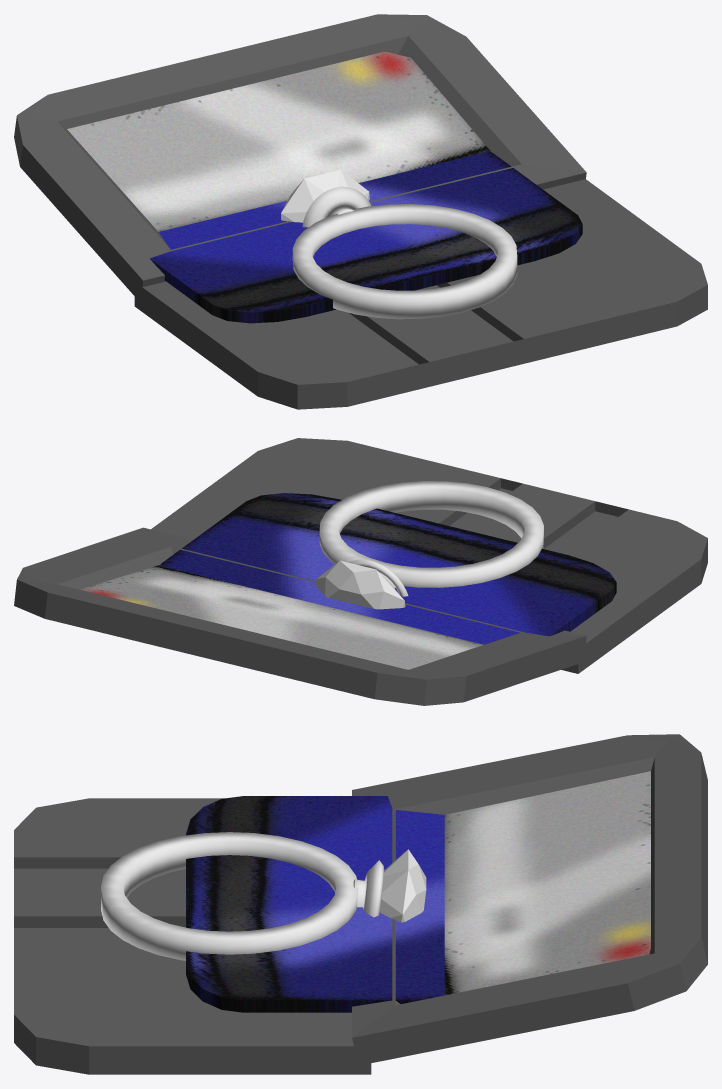
File: Int Objects 2.fbx
3 views of the same model, one above another, from view 1: azimuth 30°, elevation 25°; view 2: azimuth 150°, elevation 25°; view 3: azimuth 270°, elevation 25° (orthographic). The views are drawn at different scales.
Parts seen in each view (by area): view 1: Cube.011, Cube.006, Gem; view 2: Cube.011, Cube.006, Gem; view 3: Cube.011, Cube.006, Gem.
Part boxes in pixels (x1,y1,x2,y2): Cube.011: [14, 14, 707, 409]; Cube.006: [150, 151, 582, 323]; Gem: [281, 169, 517, 319]; Cube.011: [14, 438, 707, 705]; Cube.006: [160, 493, 616, 644]; Gem: [316, 481, 543, 609]; Cube.011: [14, 734, 707, 1074]; Cube.006: [186, 796, 444, 1012]; Gem: [101, 832, 426, 960].
Bounding box in the file's own units: 200 × 48.57 × 237.
